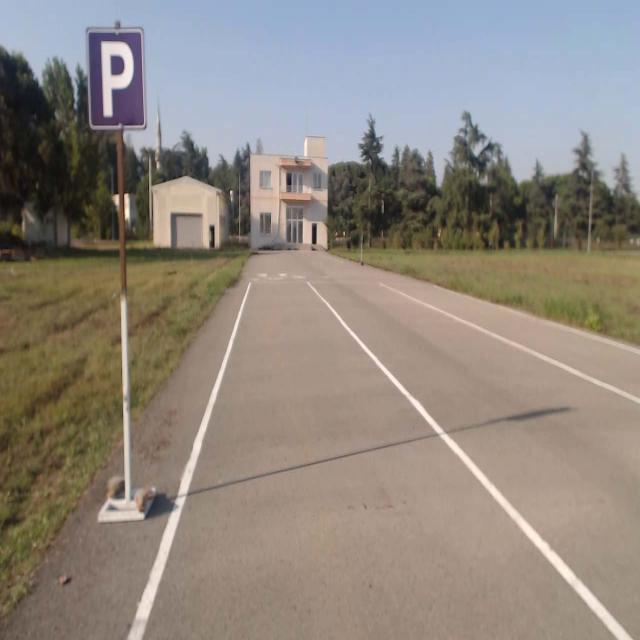park: (87, 28, 145, 128)
